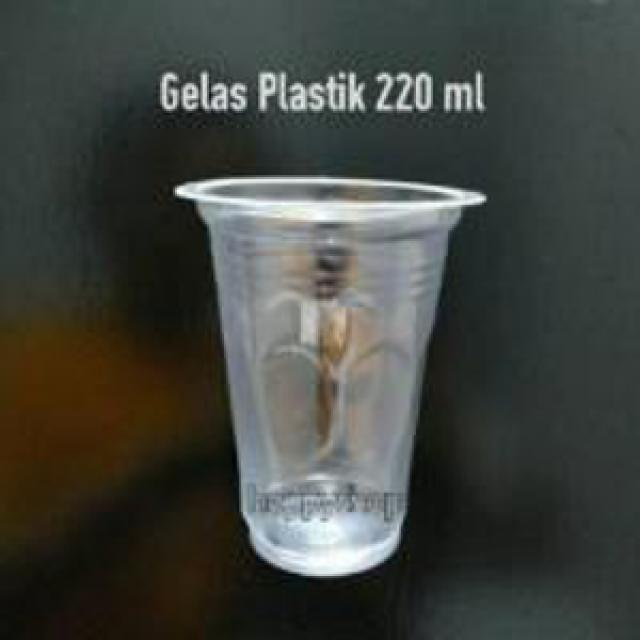plastic cup: (168, 164, 488, 587)
